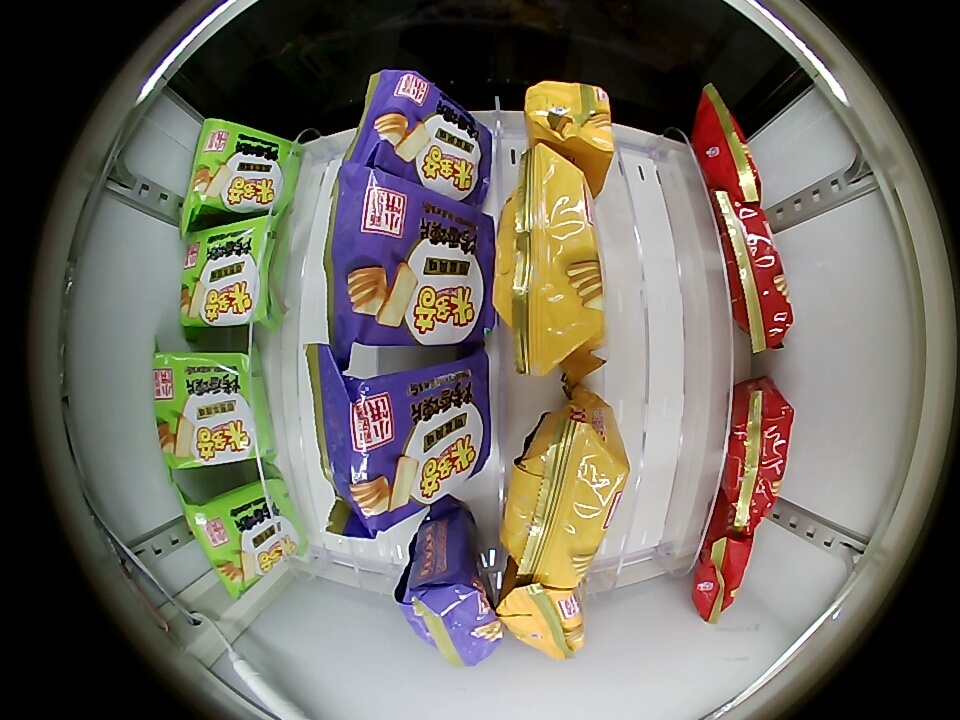kaomo_gali: (501, 395, 629, 586), (493, 158, 606, 371), (523, 80, 616, 185), (496, 575, 586, 659)
kaomo_jiaoyan: (311, 359, 493, 534), (323, 166, 495, 350), (345, 70, 492, 212), (397, 560, 504, 664)
kaomo_shaokao: (711, 194, 792, 343), (717, 380, 792, 529), (693, 98, 761, 203), (693, 513, 755, 619)
kaomo_xiangcon: (187, 478, 308, 594), (153, 352, 273, 468), (184, 119, 302, 224), (180, 217, 282, 328)
